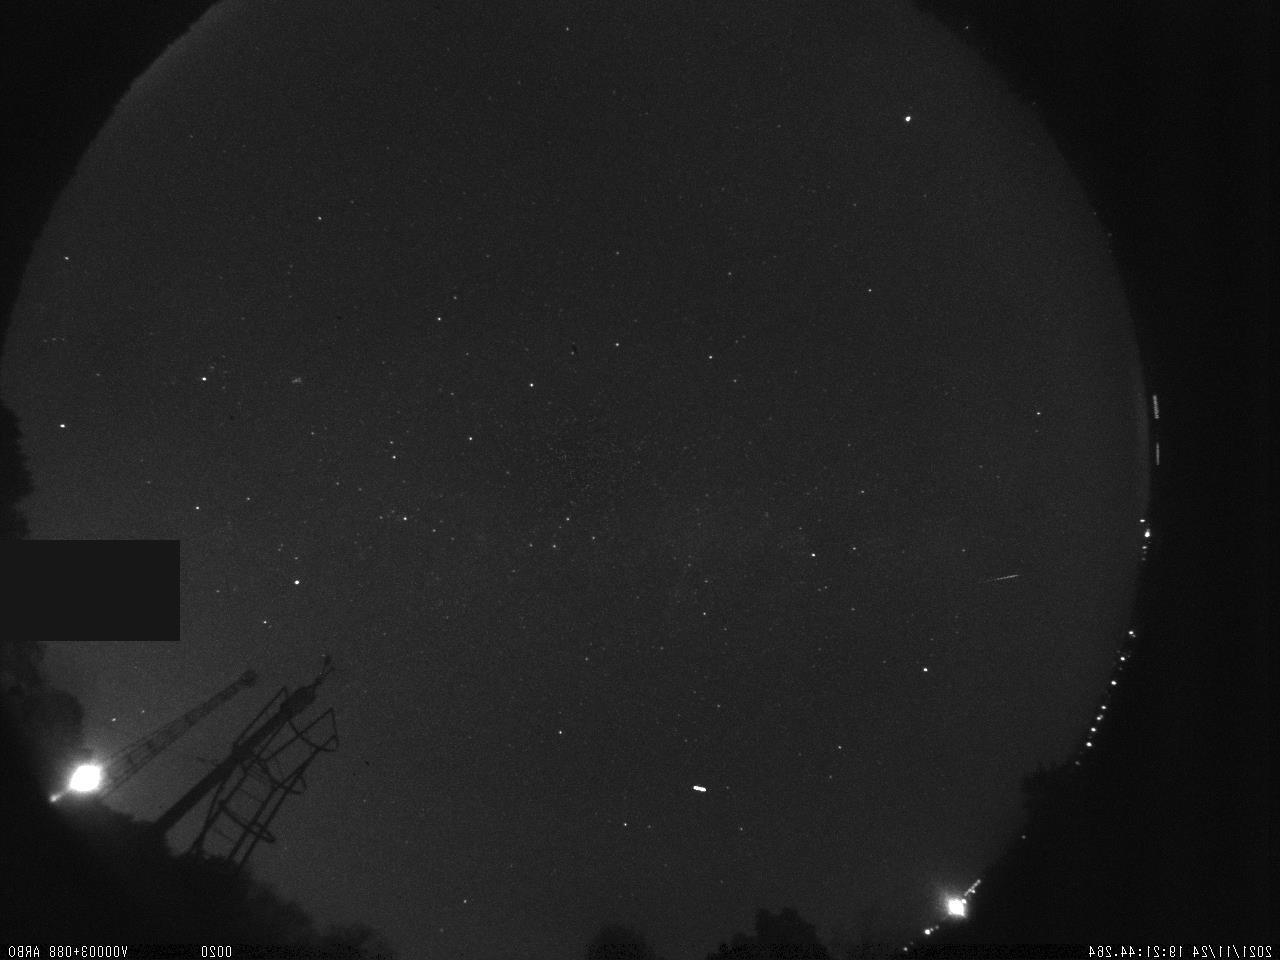meteor: (962, 556, 1048, 599)
